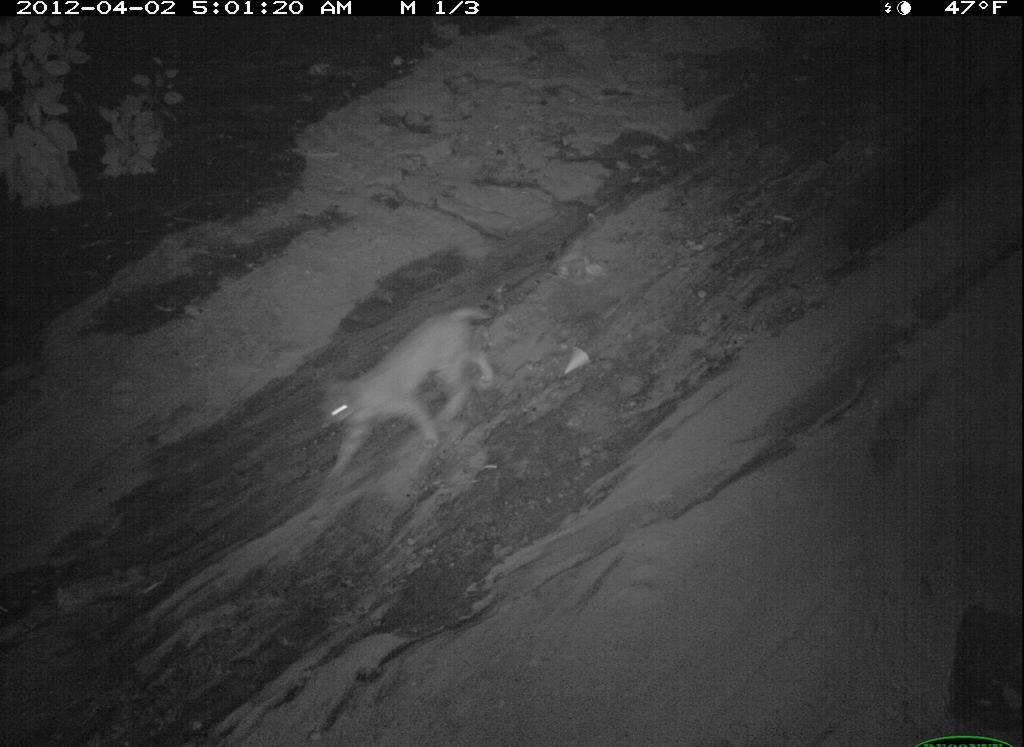bobcat: (632, 597, 1004, 747)
